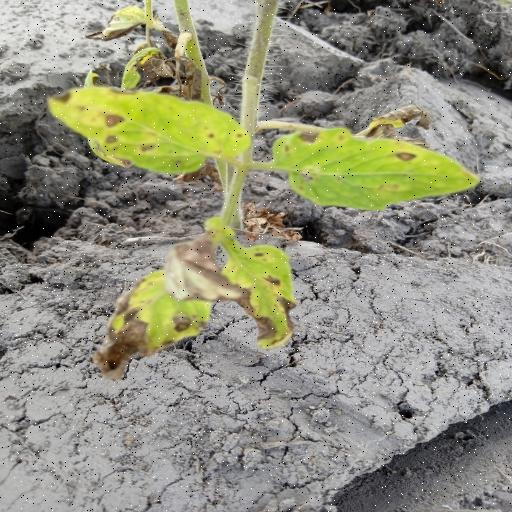Tomato_Brown_Spots: (268, 118, 485, 215), (50, 83, 256, 180), (217, 238, 300, 356)
